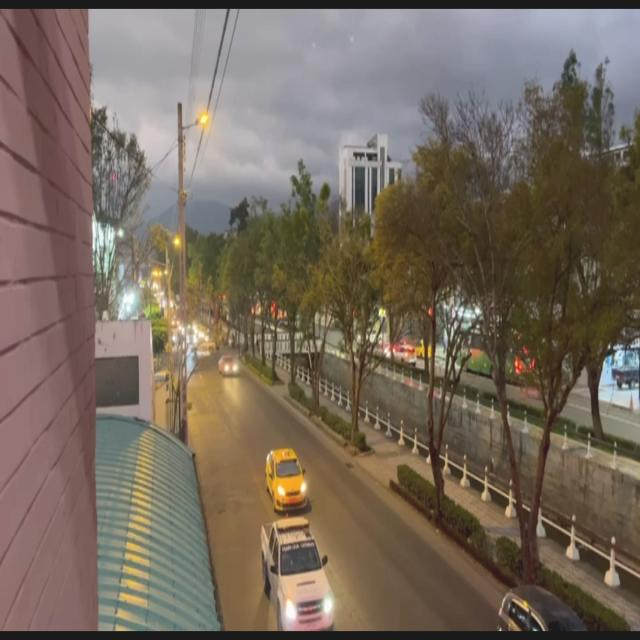CMT: (260, 516, 333, 629)
SED: (265, 446, 311, 509)
